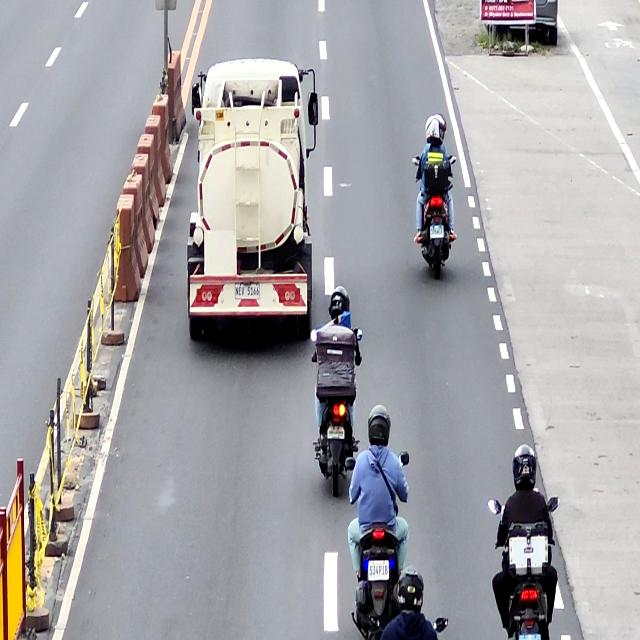License-Plate: (232, 282, 262, 302), (368, 559, 388, 581), (325, 426, 346, 440), (429, 225, 443, 240)
Motorcycle: (346, 450, 414, 626), (487, 493, 561, 640), (310, 326, 361, 500), (414, 149, 457, 277)
Truck: (183, 57, 319, 332)
